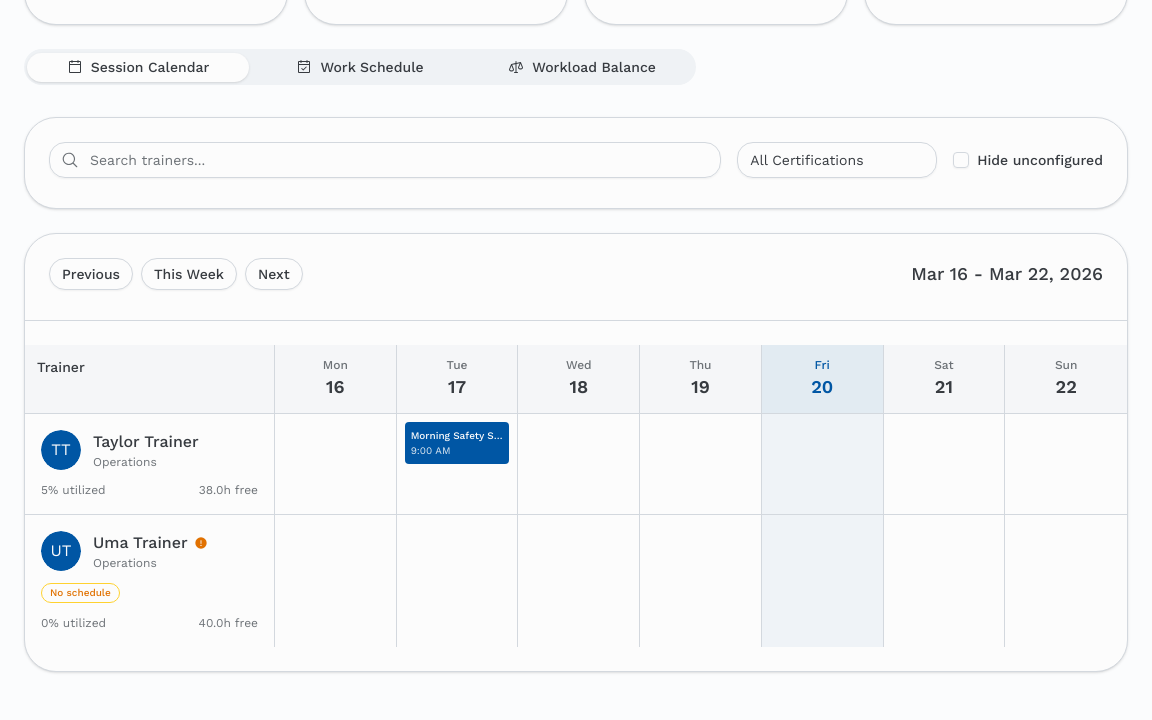
Scenario: TrainerAvailability › renders authorized roles in trainer detail sheet when present
(page scrolled)
Click the button "TT Taylor Trainer Operations 5% utilized 38.0h free": x=150, y=464 [25,414,275,514]
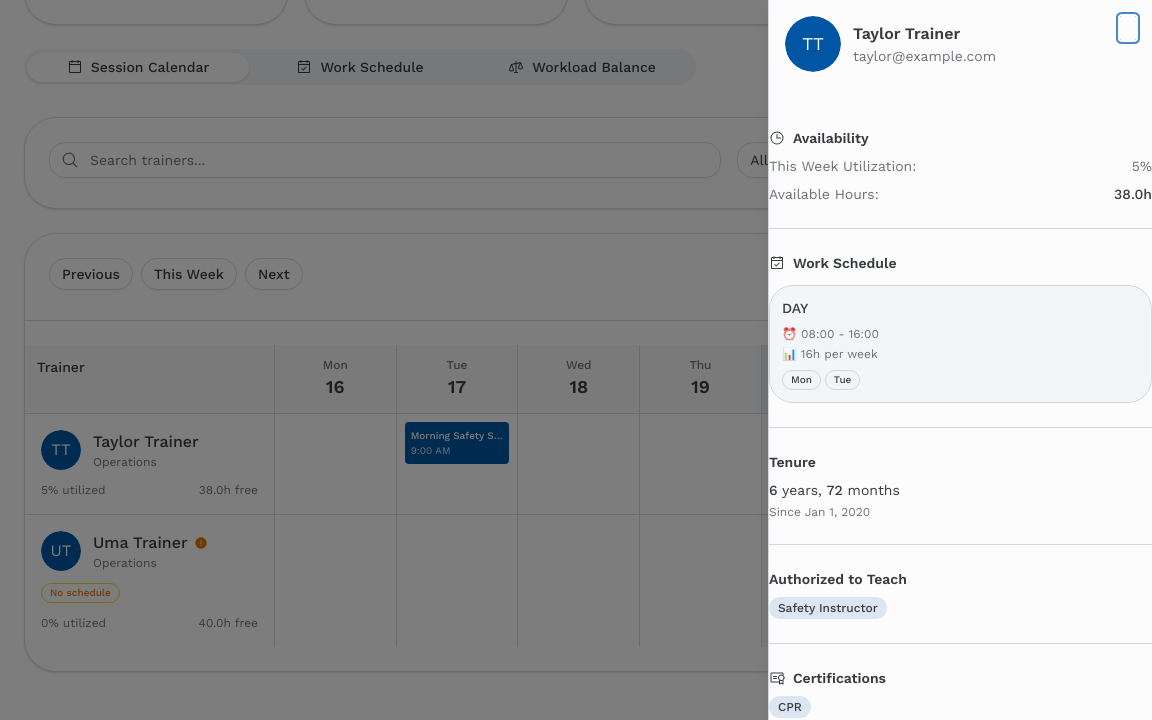
Check: the heading "Authorized to Teach" is shown, box [769,571,907,587]
Check: the text "Safety Instructor" is shown, box [769,597,887,619]
